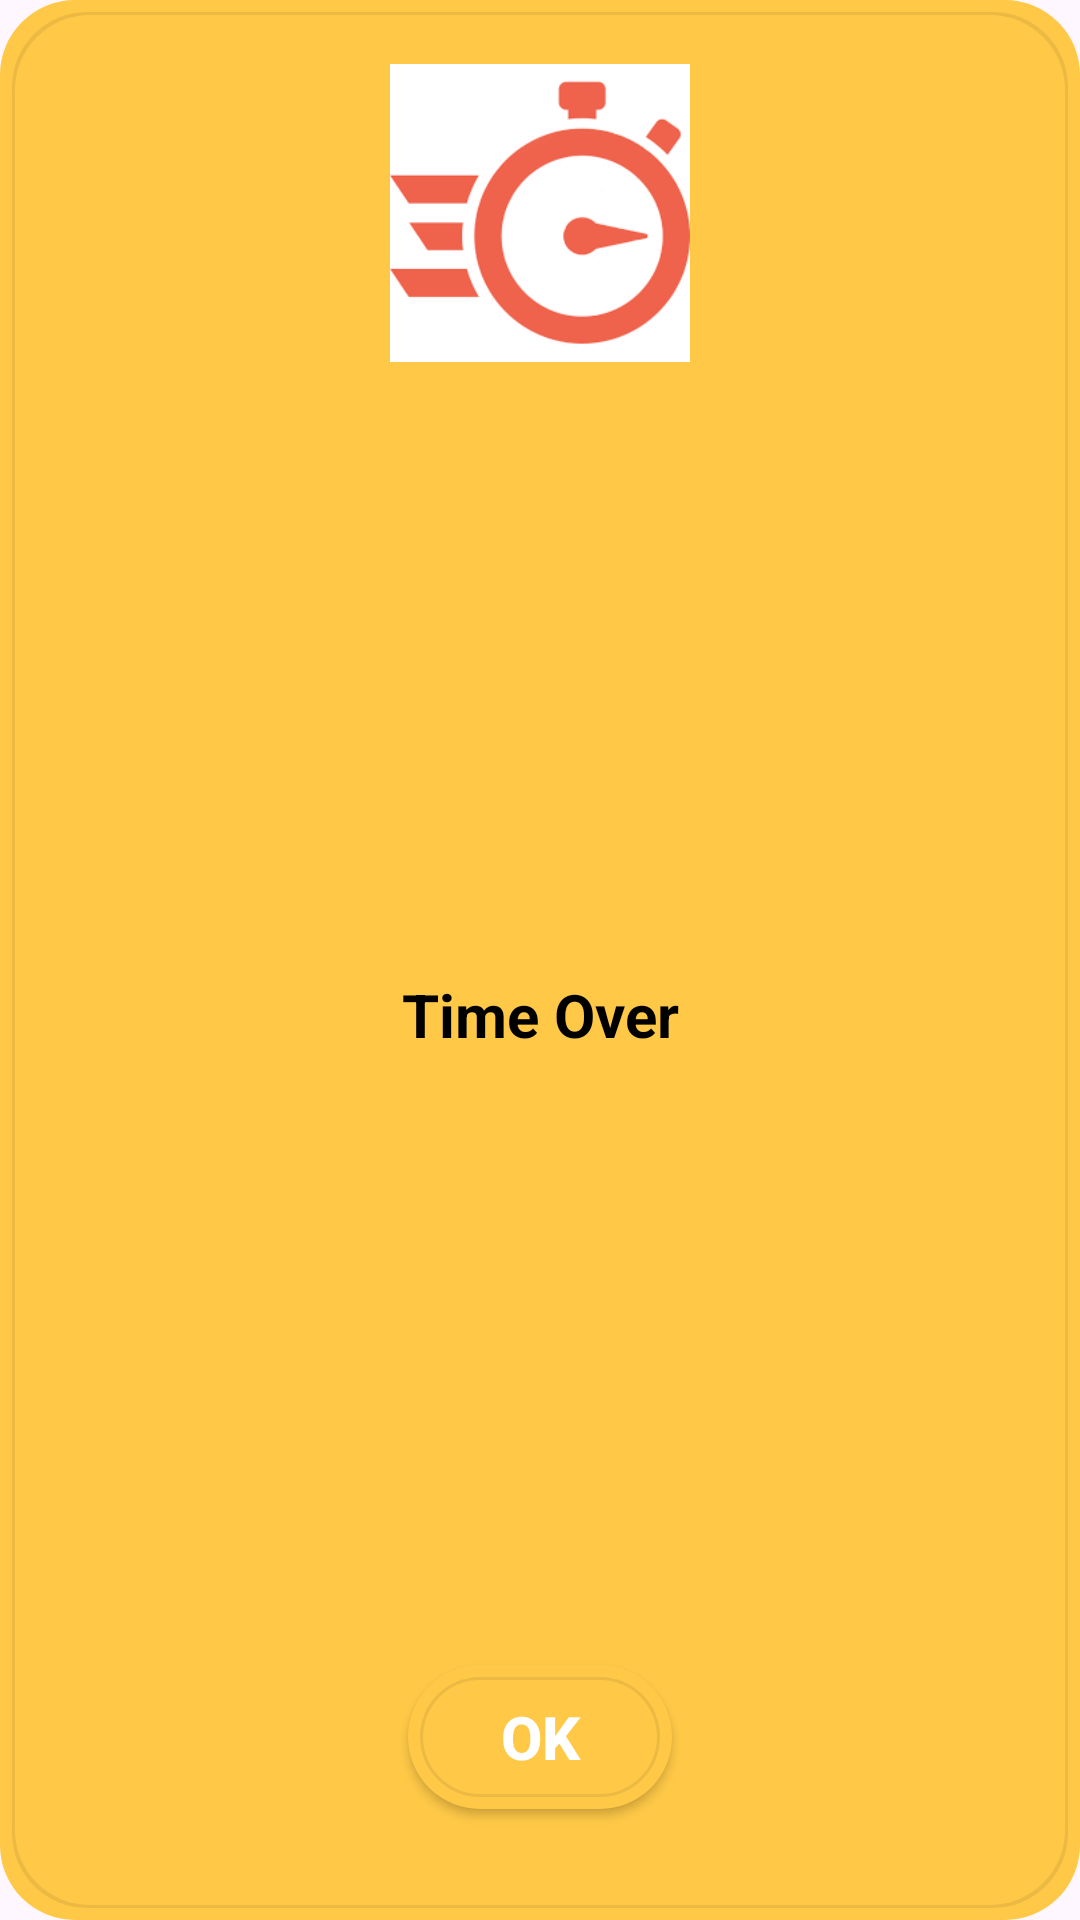

Locate icon controls on the screen. Image size 1080×1920, boxes as (x1, y1, x2, y2).
timeover: (390, 64, 690, 362)
